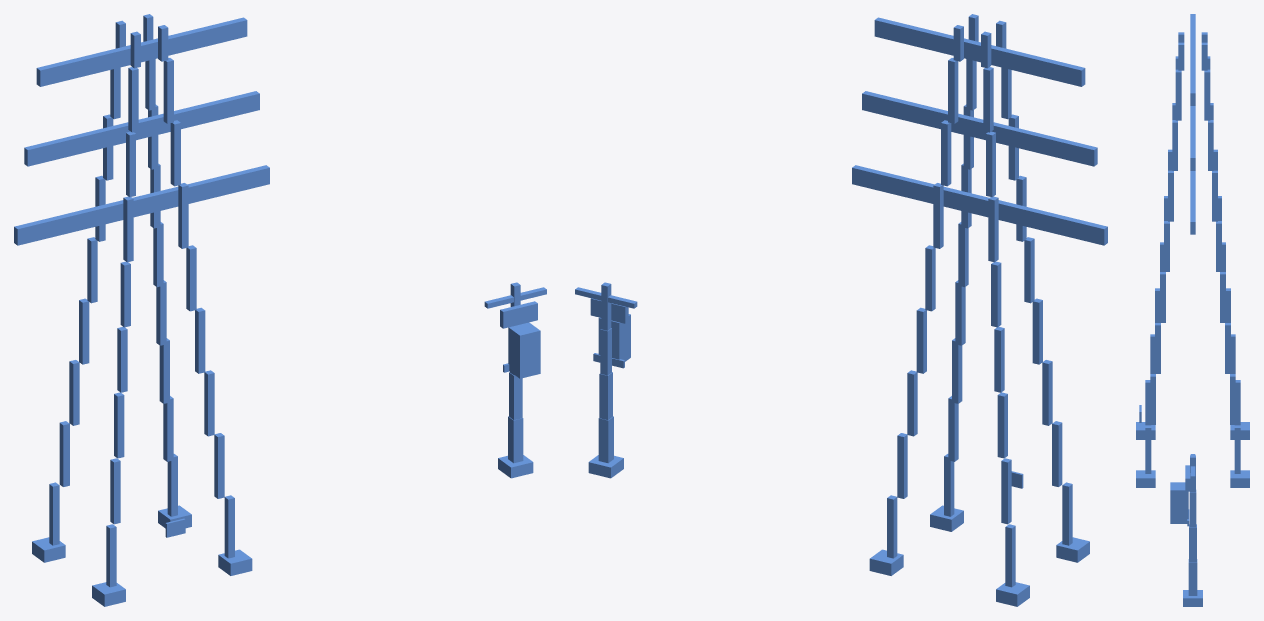
File: ProjectZ_PLT35_PowerGrid_Collision.glb
3 views of the same model, side by side, from view 1: azimuth 30°, elevation 25°; view 2: azimuth 150°, elevation 25°; view 3: azimuth 270°, elevation 25° (orthographic). The views are drawn at different scales.
Visible parts, largest first — view 1: UCX_PLT35_Crossarm_01, UCX_PLT35_Crossarm_02, UCX_PLT35_Crossarm_03, UCX_PLT35_TransformerAndMount, UCX_PLT35_FuseArresterArea, UCX_PLT35_TowerLeg_T03_-1_-1, UCX_PLT35_TowerLeg_T02_-1_-1, UCX_PLT35_TowerLeg_T03_-1_+1, UCX_PLT35_TowerLeg_T03_+1_-1, UCX_PLT35_TowerLeg_T04_-1_-1, UCX_PLT35_TowerLeg_T02_-1_+1, UCX_PLT35_TowerLeg_T02_+1_-1 (+11 smaller); view 2: UCX_PLT35_Crossarm_01, UCX_PLT35_Crossarm_02, UCX_PLT35_Crossarm_03, UCX_PLT35_TransformerAndMount, UCX_PLT35_TowerLeg_T03_-1_+1, UCX_PLT35_TowerLeg_T02_-1_+1, UCX_PLT35_TowerLeg_T03_-1_-1, UCX_PLT35_TowerLeg_T03_+1_+1, UCX_PLT35_TowerLeg_T04_-1_+1, UCX_PLT35_TowerLeg_T02_-1_-1, UCX_PLT35_TowerLeg_T02_+1_+1, UCX_PLT35_TowerLeg_T05_-1_+1 (+10 smaller); view 3: UCX_PLT35_TransformerAndMount, UCX_PLT35_Crossarm_03, UCX_PLT35_Crossarm_02, UCX_PLT35_Crossarm_01, UCX_PLT35_TowerLeg_T08_+1_-1, UCX_PLT35_TowerLeg_T08_+1_+1, UCX_PLT35_PoleShaft_01, UCX_PLT35_TowerLeg_T01_+1_-1, UCX_PLT35_TowerLeg_T01_+1_+1, UCX_PLT35_PylonFoot_ES, UCX_PLT35_PylonFoot_EN, UCX_PLT35_TowerLeg_T06_+1_-1 (+22 smaller).
Part boxes in pixels (x1=…): UCX_PLT35_Crossarm_01: x1=14, y1=165, x2=269, y2=245; UCX_PLT35_Crossarm_02: x1=24, y1=91, x2=259, y2=166; UCX_PLT35_Crossarm_03: x1=36, y1=17, x2=247, y2=86; UCX_PLT35_TransformerAndMount: x1=508, y1=322, x2=540, y2=378; UCX_PLT35_FuseArresterArea: x1=500, y1=301, x2=537, y2=328; UCX_PLT35_TowerLeg_T03_-1_-1: x1=114, y1=392, x2=124, y2=458; UCX_PLT35_TowerLeg_T02_-1_-1: x1=110, y1=458, x2=120, y2=524; UCX_PLT35_TowerLeg_T03_-1_+1: x1=69, y1=360, x2=79, y2=425; UCX_PLT35_TowerLeg_T03_+1_-1: x1=204, y1=370, x2=214, y2=436; UCX_PLT35_TowerLeg_T04_-1_-1: x1=117, y1=327, x2=127, y2=392; UCX_PLT35_TowerLeg_T02_-1_+1: x1=59, y1=421, x2=69, y2=486; UCX_PLT35_TowerLeg_T02_+1_-1: x1=214, y1=433, x2=224, y2=498; UCX_PLT35_Crossarm_01: x1=852, y1=165, x2=1107, y2=245; UCX_PLT35_Crossarm_02: x1=862, y1=91, x2=1097, y2=166; UCX_PLT35_Crossarm_03: x1=874, y1=17, x2=1085, y2=86; UCX_PLT35_TransformerAndMount: x1=598, y1=314, x2=630, y2=361; UCX_PLT35_TowerLeg_T03_-1_+1: x1=997, y1=392, x2=1007, y2=458; UCX_PLT35_TowerLeg_T02_-1_+1: x1=1001, y1=458, x2=1011, y2=524; UCX_PLT35_TowerLeg_T03_-1_-1: x1=1042, y1=360, x2=1052, y2=425; UCX_PLT35_TowerLeg_T03_+1_+1: x1=907, y1=370, x2=917, y2=436; UCX_PLT35_TowerLeg_T04_-1_+1: x1=994, y1=327, x2=1004, y2=392; UCX_PLT35_TowerLeg_T02_-1_-1: x1=1052, y1=421, x2=1062, y2=486; UCX_PLT35_TowerLeg_T02_+1_+1: x1=897, y1=433, x2=907, y2=498; UCX_PLT35_TowerLeg_T05_-1_+1: x1=991, y1=261, x2=1001, y2=327; UCX_PLT35_TransformerAndMount: x1=1170, y1=482, x2=1188, y2=523; UCX_PLT35_Crossarm_03: x1=1190, y1=14, x2=1195, y2=105; UCX_PLT35_Crossarm_02: x1=1190, y1=106, x2=1195, y2=170; UCX_PLT35_Crossarm_01: x1=1190, y1=171, x2=1195, y2=234; UCX_PLT35_TowerLeg_T08_+1_-1: x1=1175, y1=69, x2=1181, y2=120; UCX_PLT35_TowerLeg_T08_+1_+1: x1=1204, y1=69, x2=1210, y2=120; UCX_PLT35_PoleShaft_01: x1=1188, y1=559, x2=1197, y2=595; UCX_PLT35_TowerLeg_T01_+1_-1: x1=1145, y1=425, x2=1151, y2=473; UCX_PLT35_TowerLeg_T01_+1_+1: x1=1234, y1=425, x2=1240, y2=473; UCX_PLT35_PylonFoot_ES: x1=1136, y1=470, x2=1155, y2=487; UCX_PLT35_PylonFoot_EN: x1=1230, y1=470, x2=1249, y2=487; UCX_PLT35_TowerLeg_T06_+1_-1: x1=1168, y1=170, x2=1173, y2=221.
Bounding box in the file's own units: 34 × 32.98 × 8.08.
